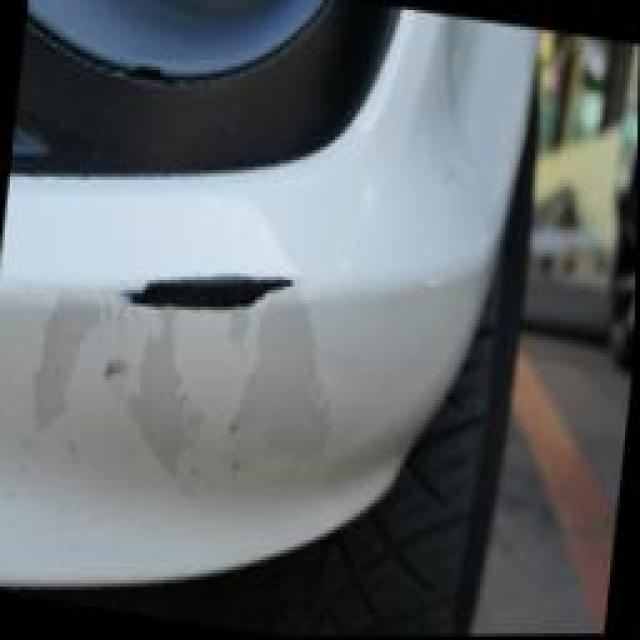Bumper: (42, 200, 370, 429)
